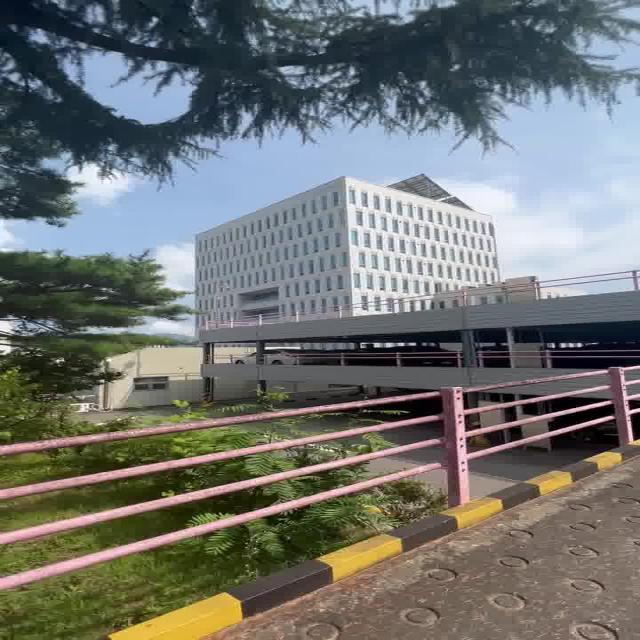building: (173, 167, 526, 347)
